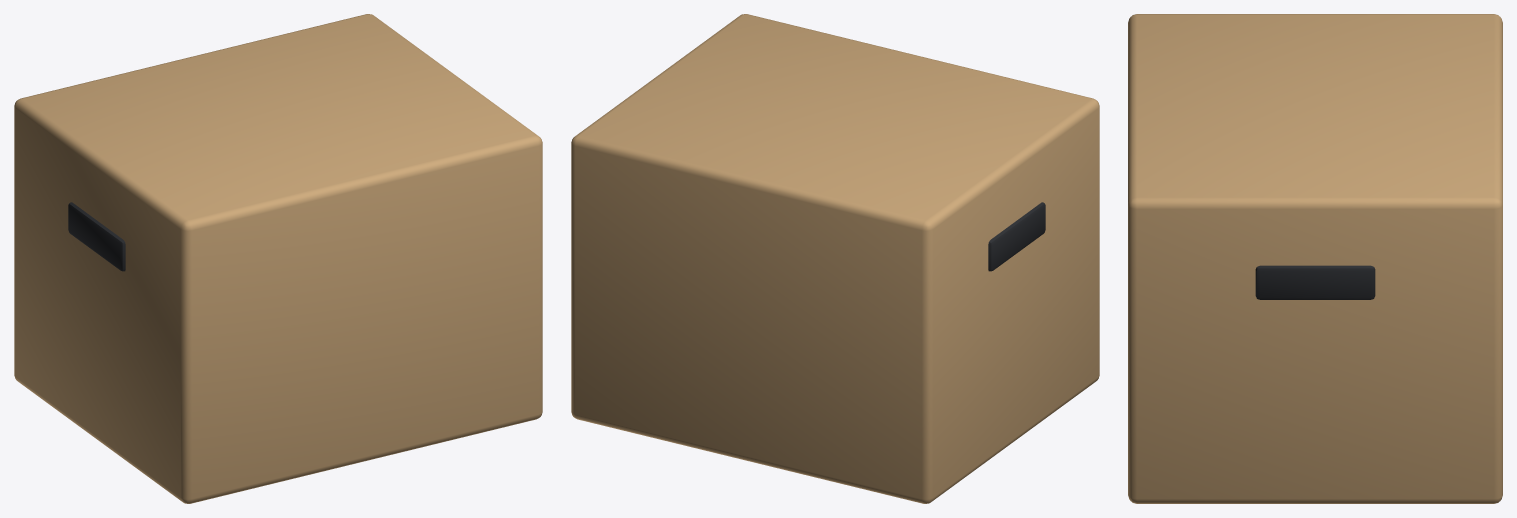
3 renders of one model, left to right at view 1: azimuth 30°, elevation 25°; view 2: azimuth 150°, elevation 25°; view 3: azimuth 270°, elevation 25°, orthographic. The views are drawn at different scales.
Parts seen in each view (by area): view 1: box.001, griffloch; view 2: box.001, griffloch; view 3: box.001, griffloch.001.
Boxes of the visible parts, left/top/right/bottom form: box.001: left=14, top=14, right=542, bottom=503; griffloch: left=68, top=202, right=125, bottom=271; box.001: left=571, top=14, right=1099, bottom=503; griffloch: left=988, top=202, right=1045, bottom=271; box.001: left=1128, top=14, right=1502, bottom=503; griffloch.001: left=1255, top=265, right=1375, bottom=299.
Bounding box in the file's own units: 0.612 × 0.45 × 0.5.
